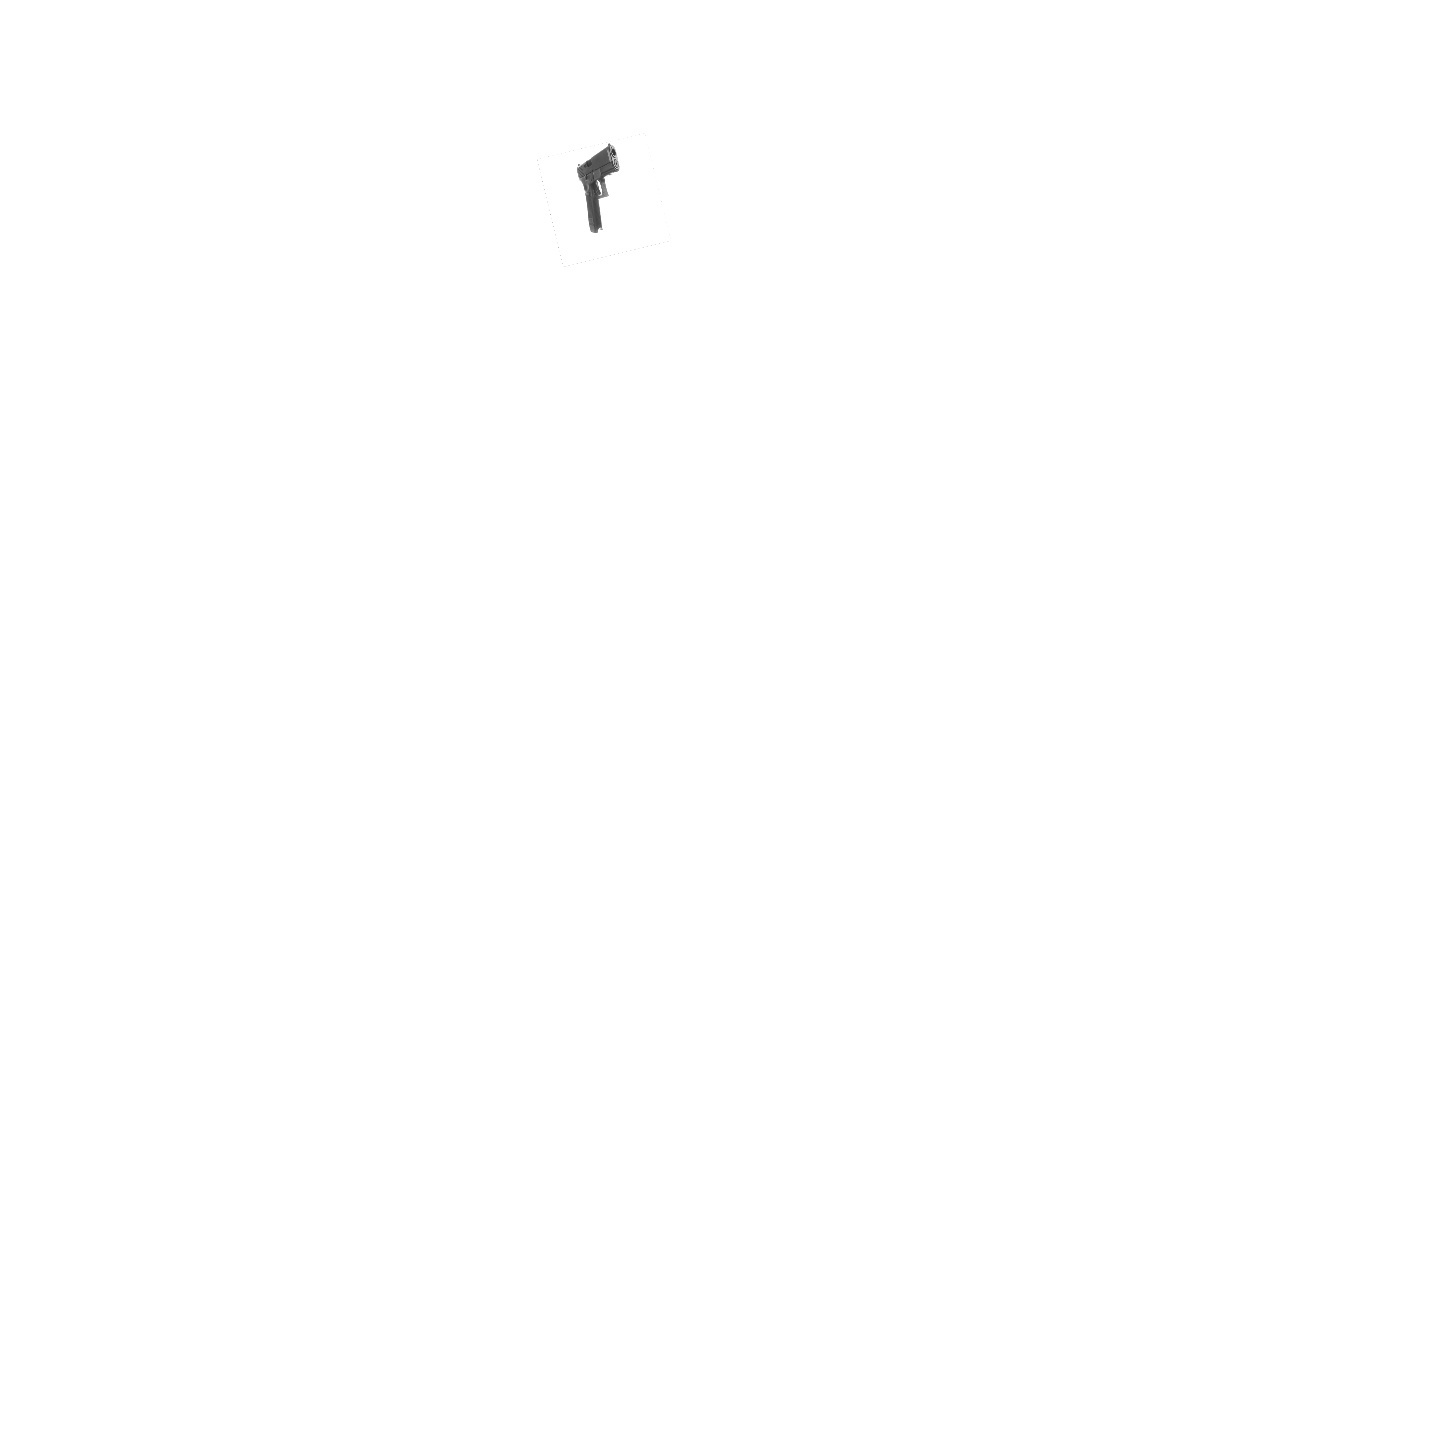gun: (577, 144, 620, 233)
